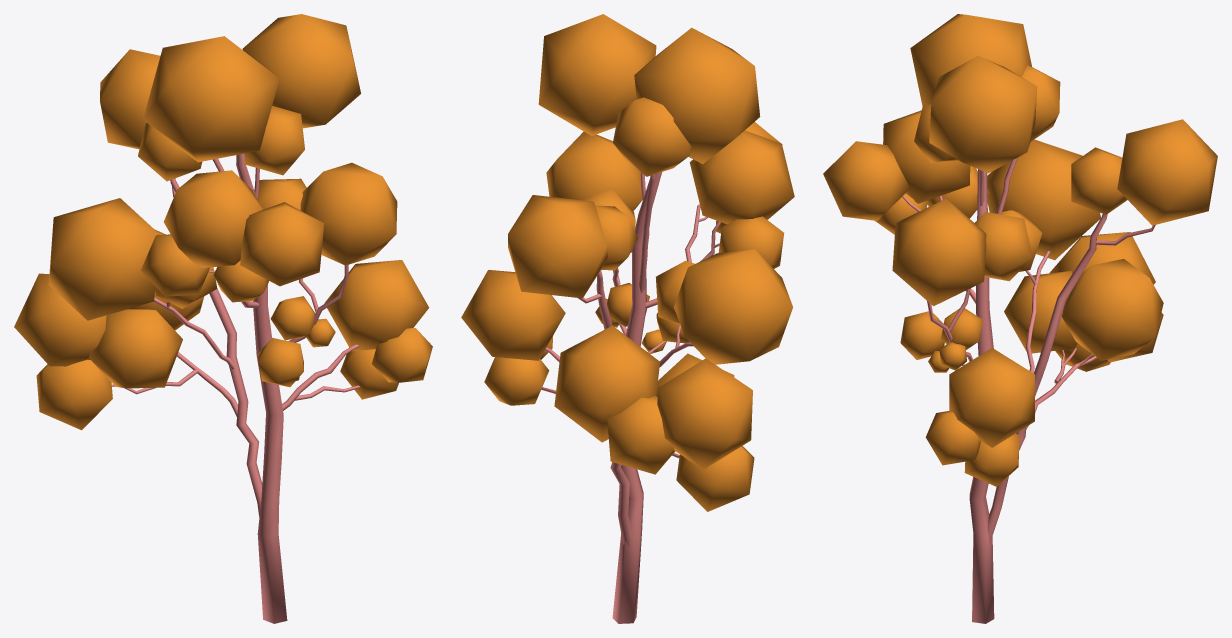
The model's file is birch.fbx.
3 renders of one model, left to right at view 1: azimuth 30°, elevation 25°; view 2: azimuth 150°, elevation 25°; view 3: azimuth 270°, elevation 25°, orthographic. The views are drawn at different scales.
Visible parts, largest first — view 1: Cylinder.001; view 2: Cylinder.001; view 3: Cylinder.001.
Boxes of the visible parts, x1,y1,x2,y2 form: Cylinder.001: (14,14,432,623); Cylinder.001: (461,14,794,623); Cylinder.001: (823,14,1217,623).
Size of the model in its own units: 446 by 752 by 467.
